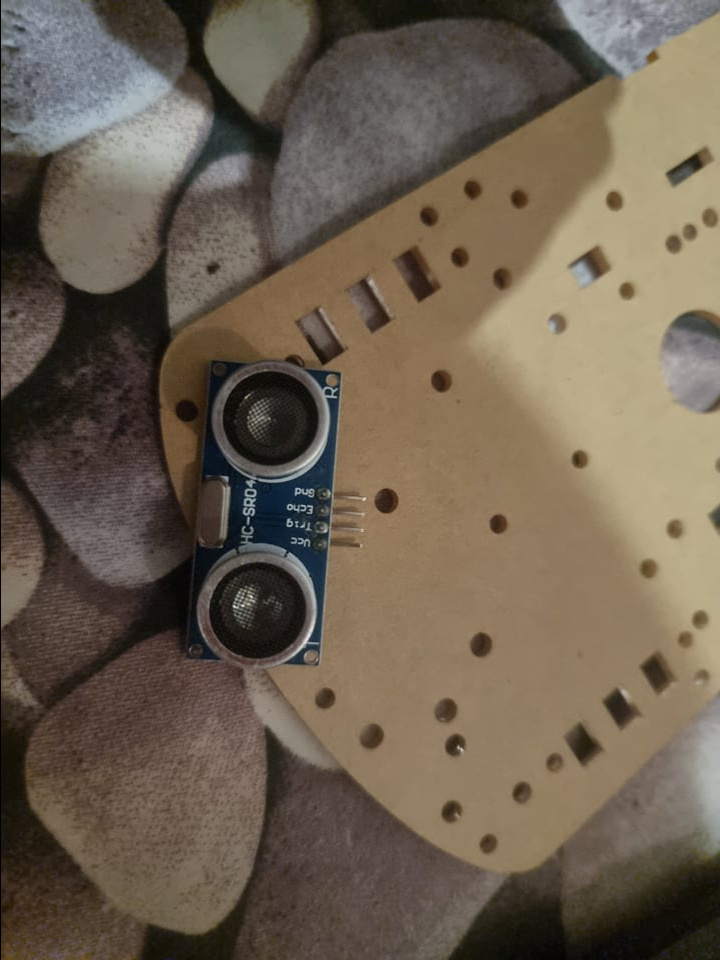SENSOR: (182, 359, 341, 667)
